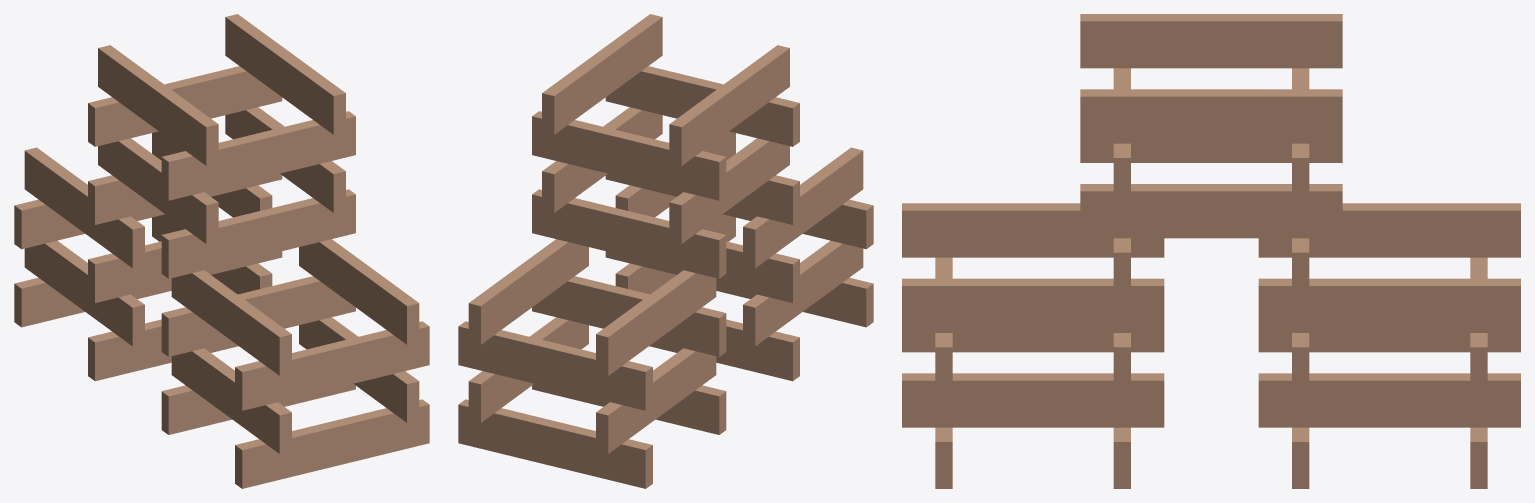
Rendered from keva_three_tower.dae.
3 views of the same model, side by side, from view 1: azimuth 30°, elevation 25°; view 2: azimuth 150°, elevation 25°; view 3: azimuth 270°, elevation 25° (orthographic). The views are drawn at different scales.
Visible parts, largest first — view 1: base (×24); view 2: base (×24); view 3: base (×24).
Boxes of the visible parts, box(x1,y1,x2,y2) form: base (×24): box(14, 14, 429, 488); base (×24): box(458, 14, 873, 488); base (×24): box(902, 14, 1520, 488).
Size of the model in its own units: 0.1177 by 0.2777 by 0.1873.
